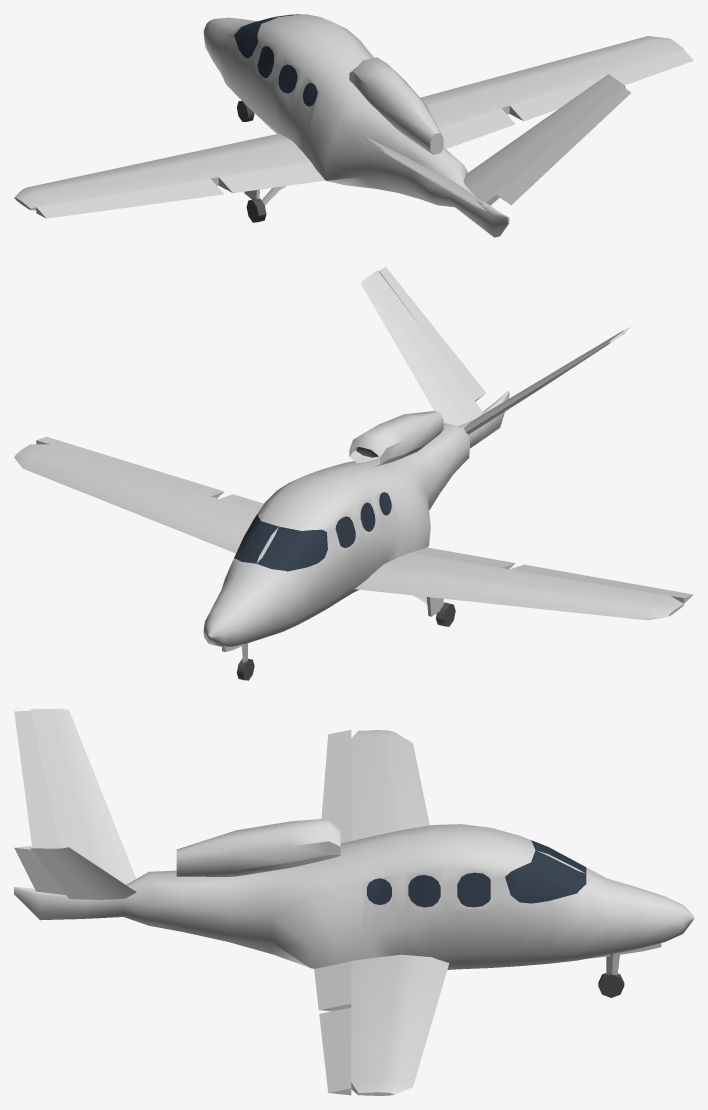
File: Cirrus_Vision_Jet_LOD0.glb
3 views of the same model, one above another, from view 1: azimuth 30°, elevation 25°; view 2: azimuth 150°, elevation 25°; view 3: azimuth 270°, elevation 25° (orthographic). The views are drawn at different scales.
Visible parts, largest first — view 1: Fuselage, Wing_Left, Wing_Right, VTail_Right, Nacelle, Aileron_Left, Aileron_Right, Ruddervator_Right, Flap_Left, Flap_Right, Ruddervator_Left, VTail_Left (+1 smaller); view 2: Fuselage, Wing_Left, Wing_Right, VTail_Right, Nacelle, Ruddervator_Right, Aileron_Right, VTail_Left, Aileron_Left, Flap_Left; view 3: Fuselage, Wing_Right, VTail_Left, Wing_Left, Nacelle, Ruddervator_Left, VTail_Right, Aileron_Left, Aileron_Right, Flap_Right, Ruddervator_Right.
Boxes of the visible parts, x1,y1,x2,y2 form: Fuselage: [203, 14, 509, 237]; Wing_Left: [14, 133, 310, 210]; Wing_Right: [420, 36, 683, 128]; VTail_Right: [463, 74, 625, 205]; Nacelle: [349, 57, 443, 154]; Aileron_Left: [36, 178, 223, 218]; Aileron_Right: [509, 49, 693, 121]; Ruddervator_Right: [497, 86, 630, 205]; Flap_Left: [218, 162, 325, 193]; Flap_Right: [438, 108, 515, 148]; Ruddervator_Left: [377, 146, 485, 210]; VTail_Left: [361, 135, 482, 208]; Fuselage: [203, 390, 509, 646]; Wing_Left: [354, 553, 683, 619]; Wing_Right: [14, 444, 258, 553]; VTail_Right: [360, 270, 482, 425]; Nacelle: [349, 411, 443, 466]; Ruddervator_Right: [379, 266, 486, 401]; Aileron_Right: [36, 436, 224, 498]; VTail_Left: [463, 330, 625, 434]; Aileron_Left: [510, 564, 693, 603]; Flap_Left: [409, 547, 515, 569]; Fuselage: [14, 824, 693, 969]; Wing_Right: [351, 954, 449, 1095]; VTail_Left: [30, 709, 136, 884]; Wing_Left: [351, 730, 429, 840]; Nacelle: [176, 818, 340, 876]; Ruddervator_Left: [14, 710, 59, 846]; VTail_Right: [30, 846, 136, 899]; Aileron_Left: [321, 730, 351, 843]; Aileron_Right: [319, 1007, 351, 1095]; Flap_Right: [314, 961, 351, 1011]; Ruddervator_Right: [14, 846, 65, 894].
Size of the model in its own units: 11.8 by 3.32 by 9.36.
